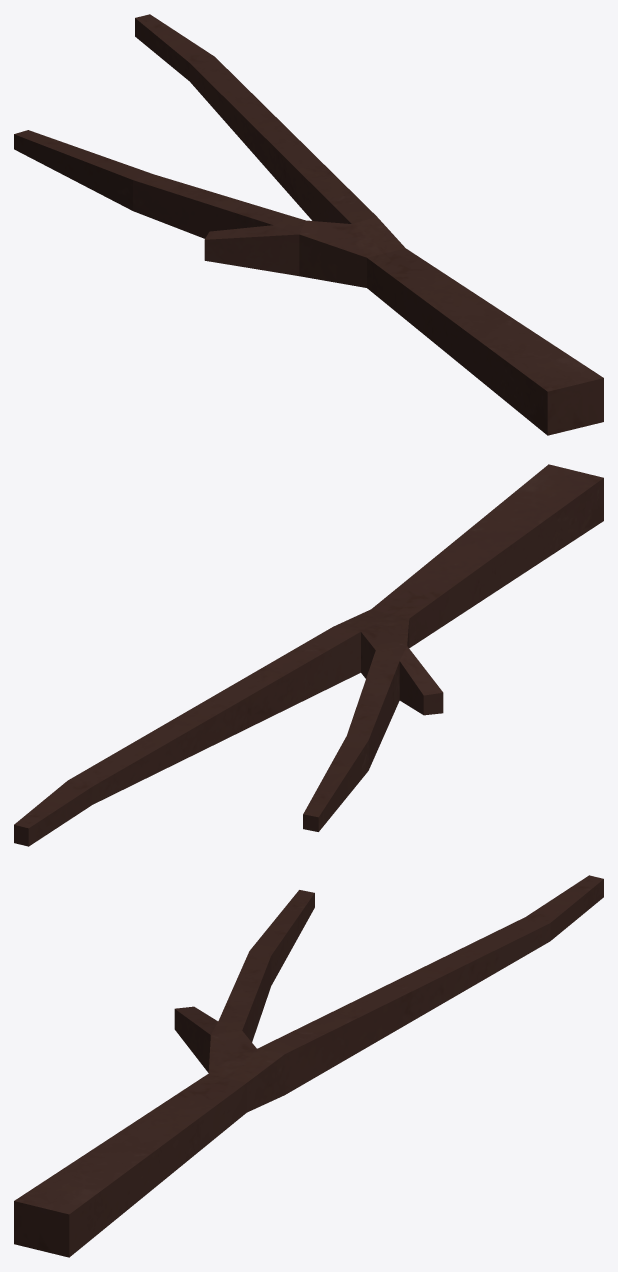
File: prop_oksa.gltf
3 views of the same model, one above another, from view 1: azimuth 30°, elevation 25°; view 2: azimuth 150°, elevation 25°; view 3: azimuth 330°, elevation 25° (orthographic).
Parts seen in each view (by area): view 1: Oksa; view 2: Oksa; view 3: Oksa.
Boxes of the visible parts, box(x1,y1,x2,y2) form: Oksa: box(14, 14, 603, 435); Oksa: box(14, 464, 603, 846); Oksa: box(14, 875, 603, 1257).
Size of the model in its own units: 1.06 by 0.1945 by 4.
1 material, 1 textured.
